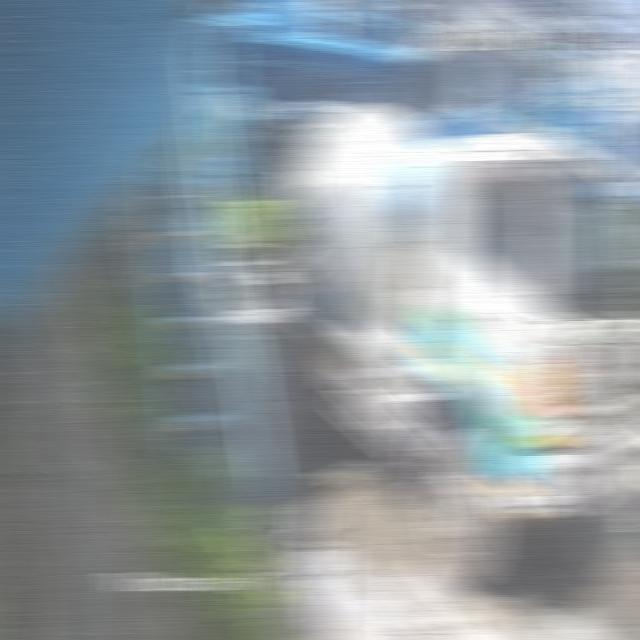cement_mixer_truck: (269, 101, 640, 587)
